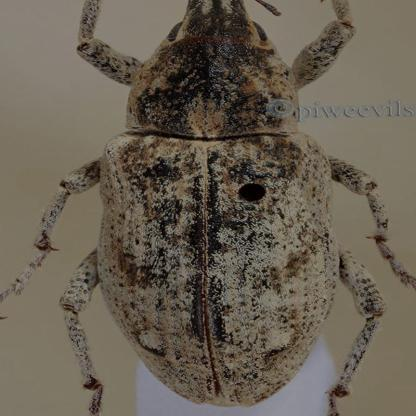rice-bug: (57, 0, 387, 416)
